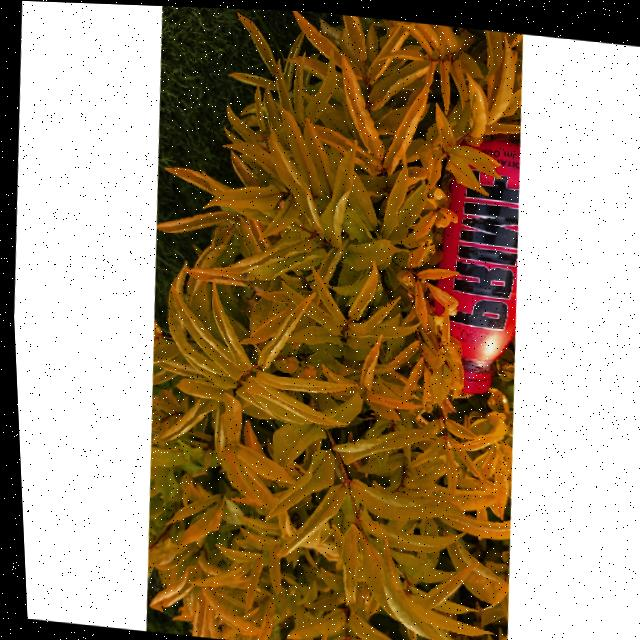Prime - Shitass: (415, 128, 527, 396)
